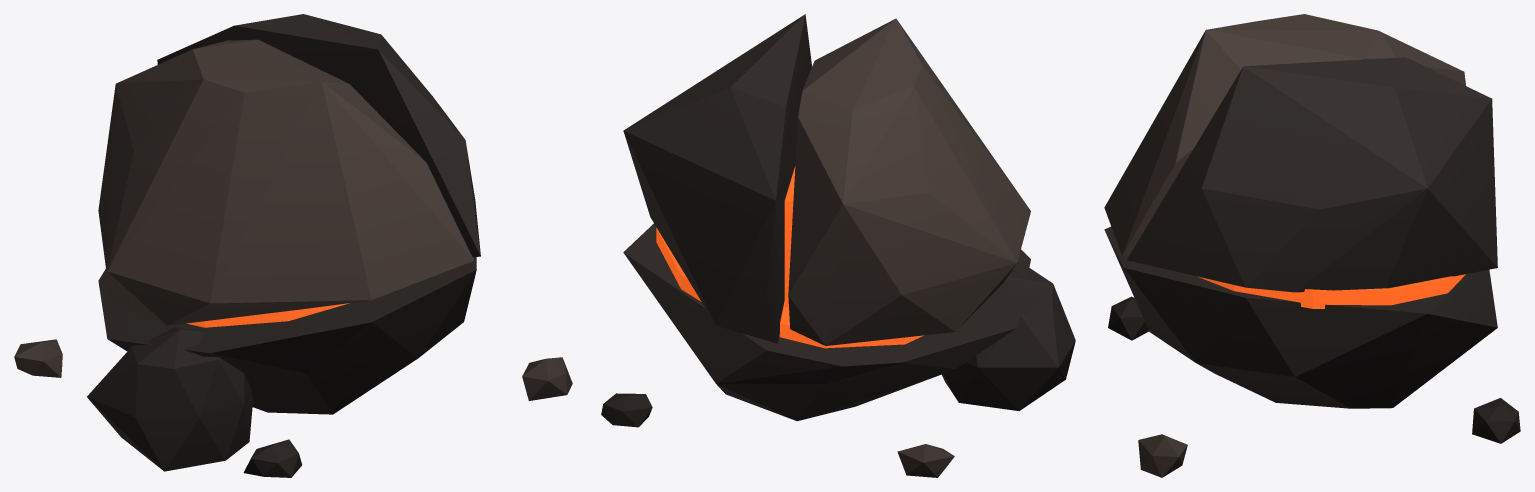
The model's file is cinder.glb.
The picture shows the model from 3 angles, left to right: view 1: azimuth 30°, elevation 25°; view 2: azimuth 150°, elevation 25°; view 3: azimuth 270°, elevation 25°; orthographic projection. The views are drawn at different scales.
Visible parts, largest first — view 1: cinder.001; view 2: cinder.001; view 3: cinder.001.
Part boxes in pixels (x1,y1,x2,y2): cinder.001: [14, 14, 572, 477]; cinder.001: [601, 14, 1075, 477]; cinder.001: [1104, 14, 1520, 477].
Bounding box in the file's own units: 1.73 × 1.31 × 1.46.
